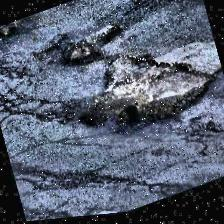pothole: (64, 24, 224, 158), (49, 14, 128, 76), (0, 12, 46, 54)
